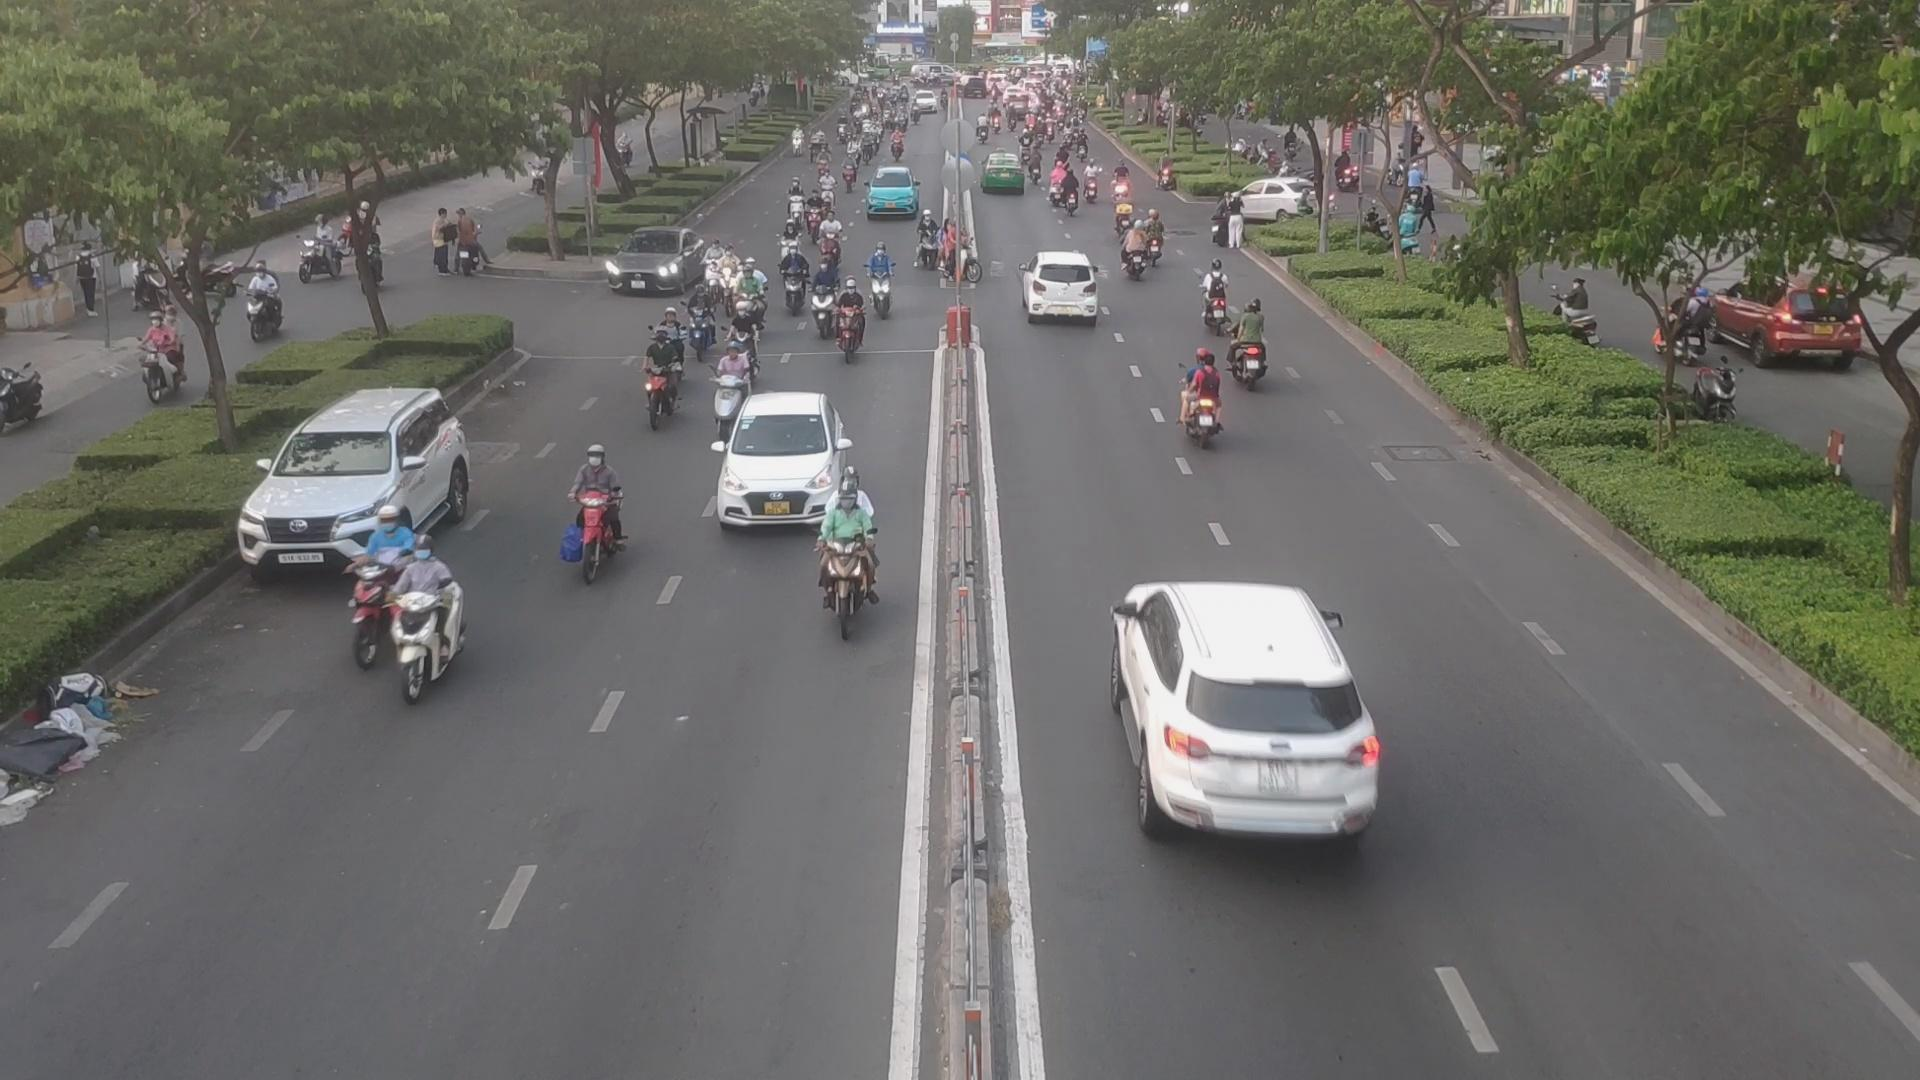car: (1106, 585, 1382, 841), (231, 382, 491, 578), (705, 396, 843, 531), (603, 229, 709, 298), (1025, 251, 1106, 324), (1236, 179, 1317, 225), (862, 167, 924, 222), (982, 152, 1027, 200)
motorbike: (394, 541, 465, 700), (562, 440, 629, 580), (818, 475, 873, 634), (355, 506, 410, 661), (1171, 348, 1228, 444), (1225, 298, 1267, 388), (717, 303, 764, 382), (712, 352, 749, 433), (835, 277, 865, 371), (640, 342, 674, 422), (1192, 258, 1230, 330), (806, 264, 837, 349), (717, 237, 749, 315), (942, 225, 984, 284), (738, 262, 774, 320), (866, 247, 895, 316), (686, 289, 713, 360), (1116, 218, 1146, 280), (915, 211, 940, 278), (1141, 212, 1168, 273), (781, 251, 808, 307), (818, 222, 844, 268), (1106, 161, 1131, 202), (704, 241, 723, 294), (804, 189, 822, 243), (781, 224, 804, 262), (1063, 171, 1081, 220), (786, 178, 804, 225), (816, 174, 839, 211), (1084, 161, 1101, 207), (1113, 200, 1135, 233), (1048, 166, 1065, 206)
